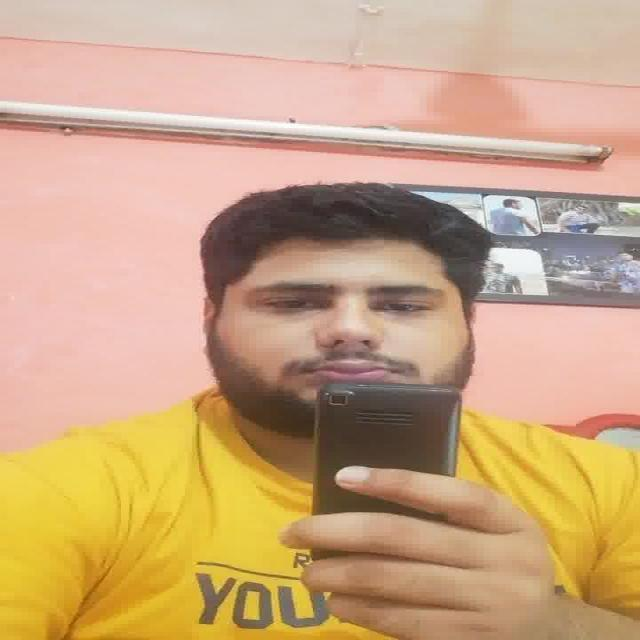Phone: (308, 380, 464, 508)
